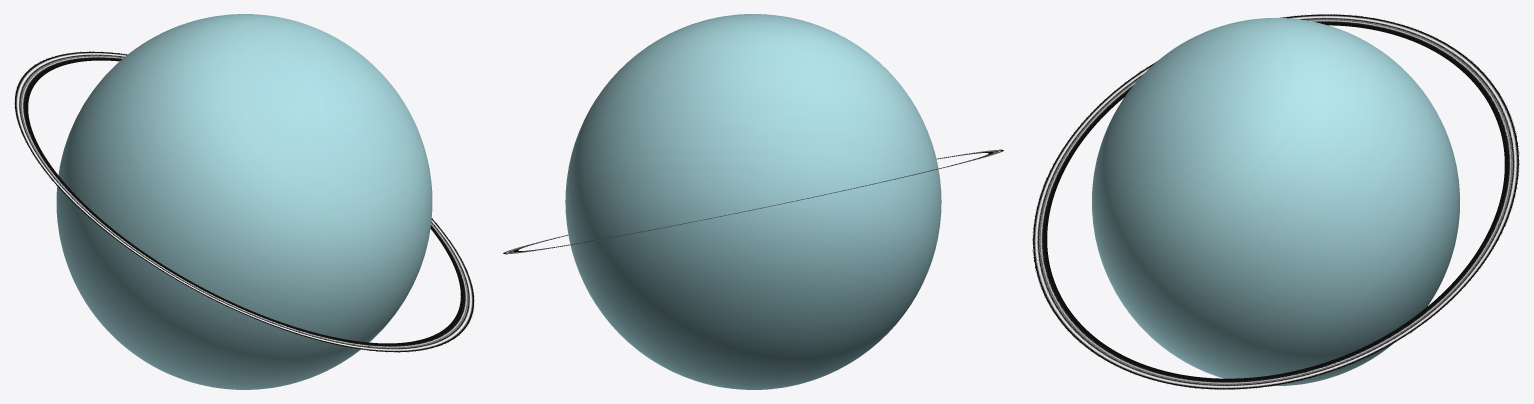
The model's file is uranus.glb.
The picture shows the model from 3 angles, left to right: view 1: azimuth 30°, elevation 25°; view 2: azimuth 150°, elevation 25°; view 3: azimuth 270°, elevation 25°; orthographic projection. The views are drawn at different scales.
Parts seen in each view (by area): view 1: Sphere, Circle; view 2: Sphere, Circle; view 3: Sphere, Circle.
Part boxes in pixels (x1,y1,x2,y2): Sphere: [56, 14, 432, 389]; Circle: [14, 51, 474, 352]; Sphere: [565, 14, 941, 389]; Circle: [503, 149, 1003, 254]; Sphere: [1092, 18, 1459, 385]; Circle: [1032, 14, 1519, 389].
Size of the model in its own units: 63.72 by 50.38 by 66.63.
Materials: 2 (2 with a texture image).
